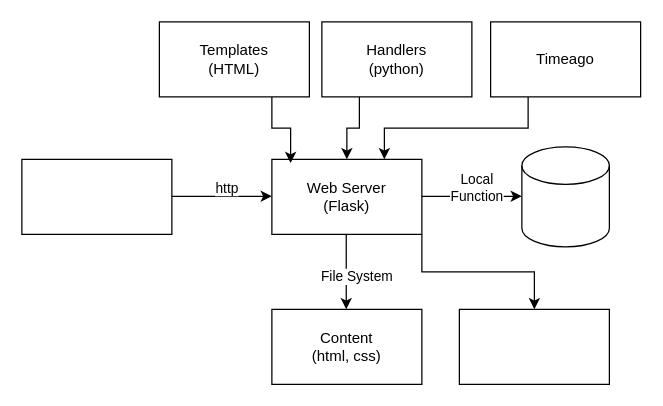
This 663x406 diagram has some shape labels left out. Here are the shapes that lost their labels. From the top down, the centre of each, then its label:
point (96, 196): Browser
point (565, 196): Data Store TinyDB
point (533, 346): Location Services
